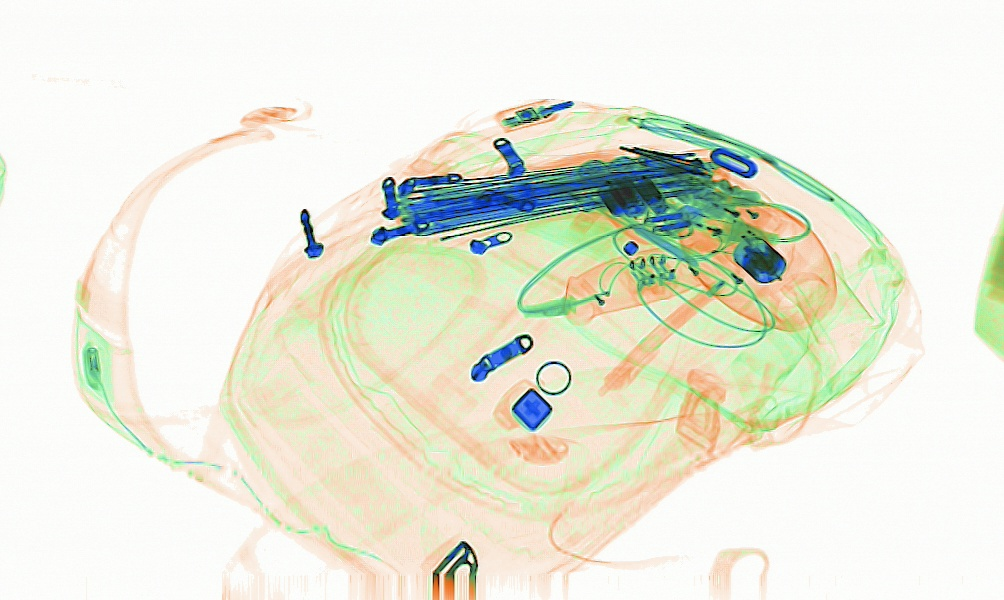lighter: (680, 181, 795, 250), (670, 203, 782, 263)
